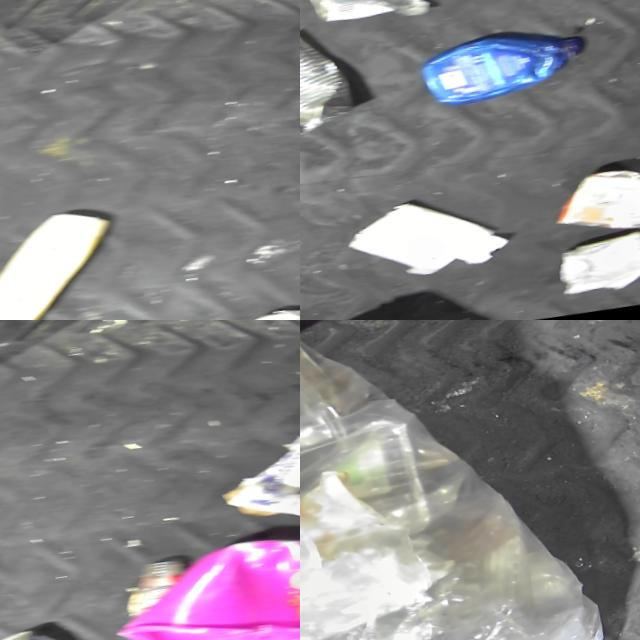can: (300, 18, 369, 157), (552, 157, 640, 239), (559, 224, 640, 297), (0, 610, 118, 640), (301, 0, 405, 27)
non_white_jug: (108, 504, 300, 640), (421, 16, 596, 111)
